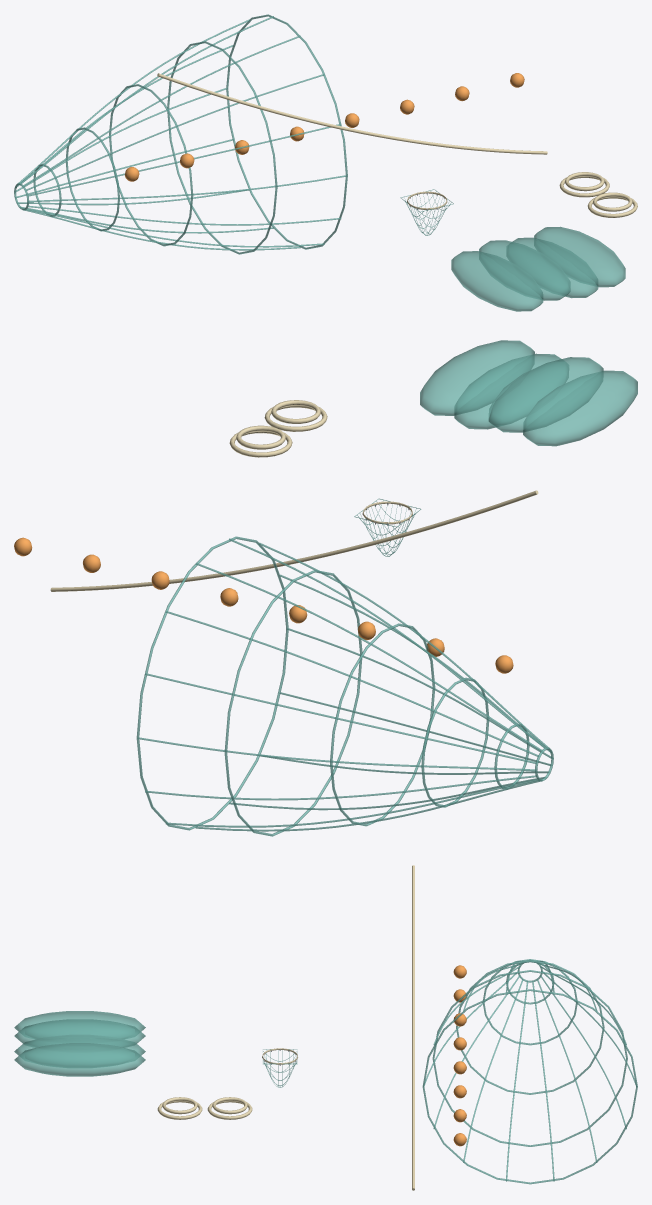
The model's file is fishing_nets_and_ropes.glb.
The picture shows the model from 3 angles, top to bottom: view 1: azimuth 30°, elevation 25°; view 2: azimuth 150°, elevation 25°; view 3: azimuth 270°, elevation 25°; orthographic projection. The views are drawn at different scales.
Visible parts, largest first — view 1: NetFold0, NetFold1, NetFold3, NetFold2, NetLine, TrawlRing0, TrawlRing1, TrawlRing2, TrawlLine7, TrawlLine5, TrawlLine4, TrawlLine8 (+11 smaller); view 2: NetFold0, NetFold1, NetFold3, NetFold2, NetLine, TrawlRing0, TrawlRing1, TrawlRing2, TrawlLine1, TrawlLine2, TrawlLine0, TrawlLine3 (+11 smaller); view 3: NetFold3, NetFold2, NetFold1, NetFold0, TrawlRing0, TrawlRing1, NetLine, TrawlRing2, TrawlRing3.
Part boxes in pixels (x1,y1,x2,y2): NetFold0: (451, 251, 543, 311); NetFold1: (479, 240, 570, 300); NetFold3: (534, 226, 625, 287); NetFold2: (506, 237, 598, 298); NetLine: (157, 73, 547, 154); TrawlRing0: (226, 14, 347, 249); TrawlRing1: (167, 41, 277, 254); TrawlRing2: (109, 84, 193, 246); TrawlLine7: (28, 175, 346, 202); TrawlLine5: (25, 74, 324, 190); TrawlLine4: (23, 35, 300, 186); TrawlLine8: (27, 205, 341, 225); NetFold0: (523, 370, 637, 446); NetFold1: (488, 357, 603, 432); NetFold3: (420, 340, 534, 415); NetFold2: (454, 353, 568, 429); NetLine: (50, 490, 538, 591); TrawlRing0: (136, 536, 288, 830); TrawlRing1: (224, 570, 362, 836); TrawlRing2: (330, 623, 435, 826); TrawlLine1: (145, 673, 536, 763); TrawlLine2: (166, 611, 539, 756); TrawlLine0: (138, 737, 535, 771); TrawlLine3: (195, 562, 542, 751); NetFold3: (14, 1043, 145, 1076); NetFold2: (14, 1035, 145, 1067); NetFold1: (14, 1019, 145, 1047); NetFold0: (14, 1011, 145, 1038); TrawlRing0: (422, 989, 637, 1184); TrawlRing1: (432, 970, 627, 1146); NetLine: (412, 865, 414, 1190); TrawlRing2: (456, 960, 604, 1094); TrawlRing3: (483, 959, 577, 1045).
Bounding box in the file's own units: 14.32 × 7.77 × 18.71.
